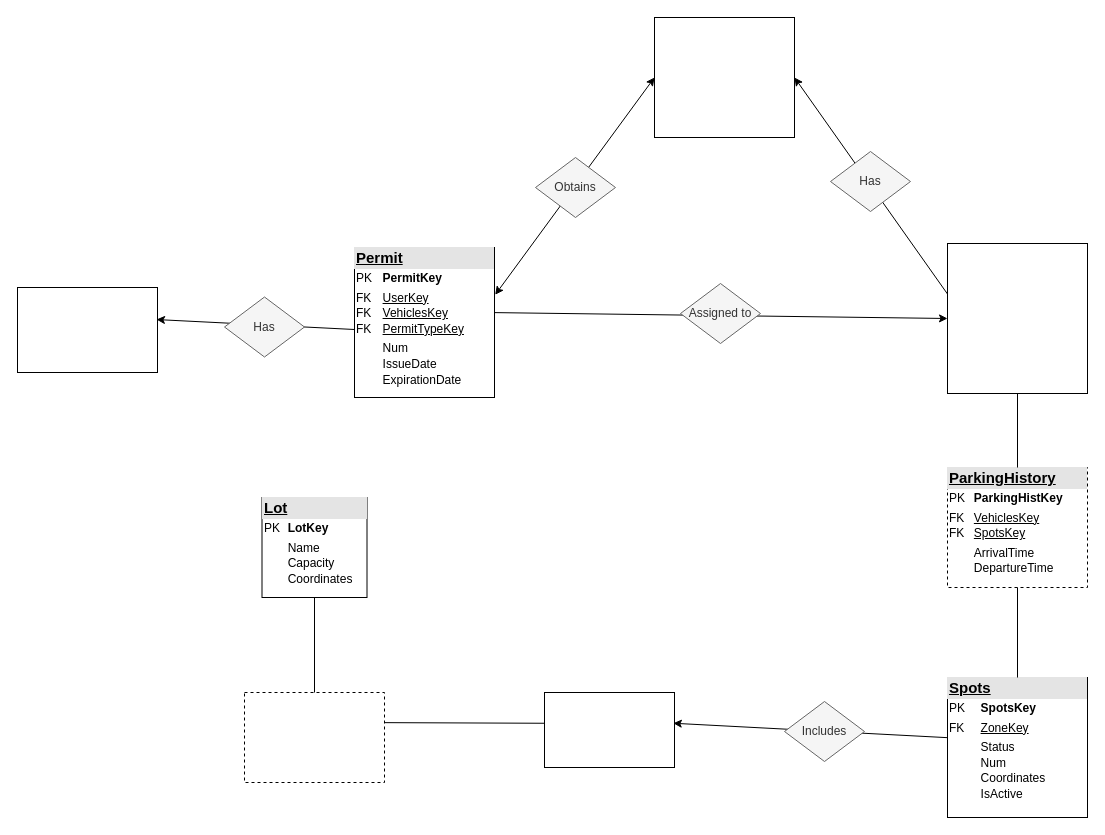
Image size: 1105x835. Some labels were removed from this diagram. Here are the shapes that lost their labels. From the top down, the centre of each, then its label:
point 724,77: Users PK UserKey FK PermitKey Name Email Password
point 87,329: PermitType PK PermitTypeKey Category Duration
point 1017,318: Vehicles PK VehiclesKey FK UserKey PlateNo PlateState Maker Model Color
point 314,737: ZoneAssignment FK FK ZoneKey LotKey IsActive Coordinates
point 609,730: Zone PK ZoneKey Type
